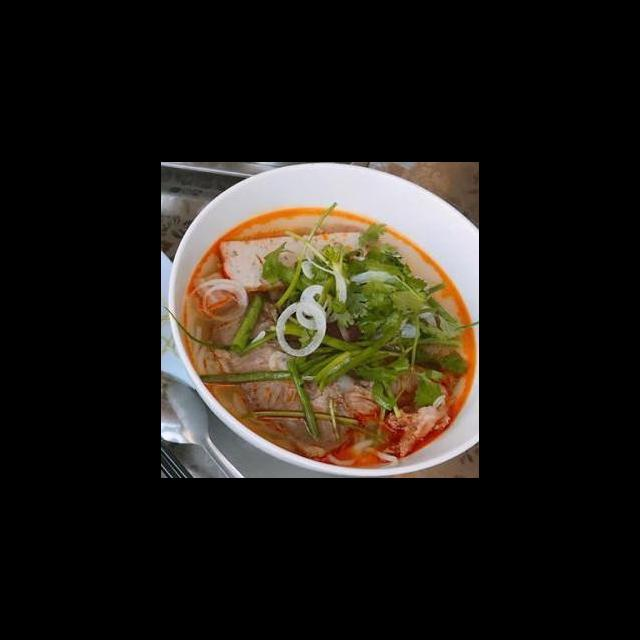bun: (325, 436, 402, 472), (189, 319, 221, 391)
thit bo: (210, 295, 362, 459), (339, 360, 444, 429), (378, 395, 455, 462)
